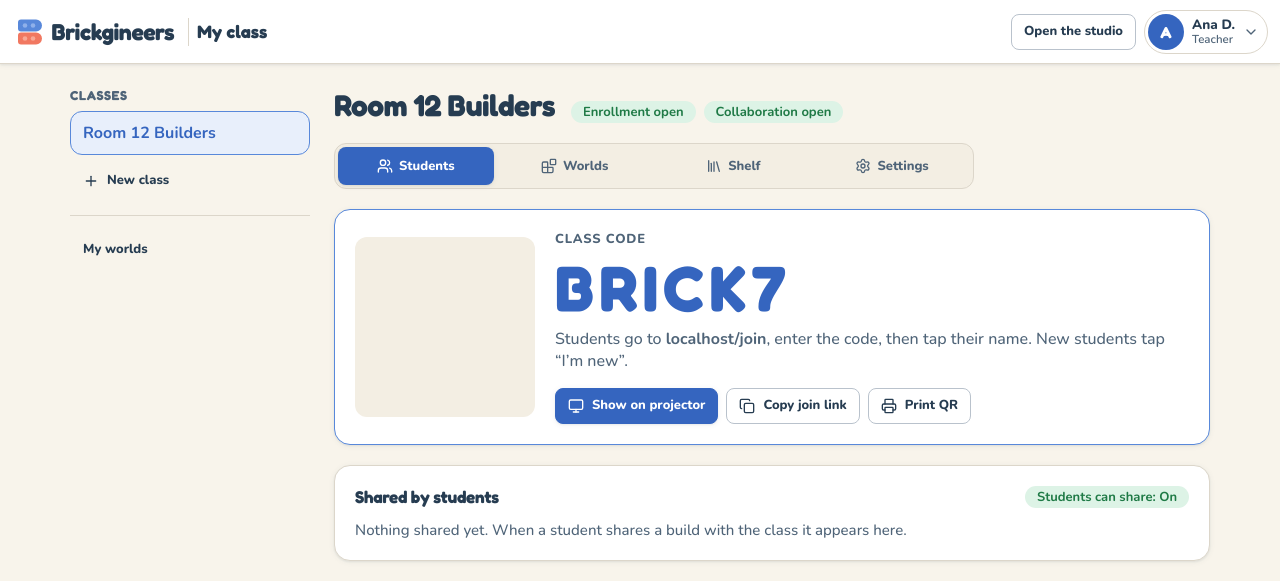
Test: peeks at a brick: how many scripts, its variables and who made it
This screenshot has width=1280, height=581.
Click the radio button labelled "Shelf" at (733, 166), box [656,147,811,185]
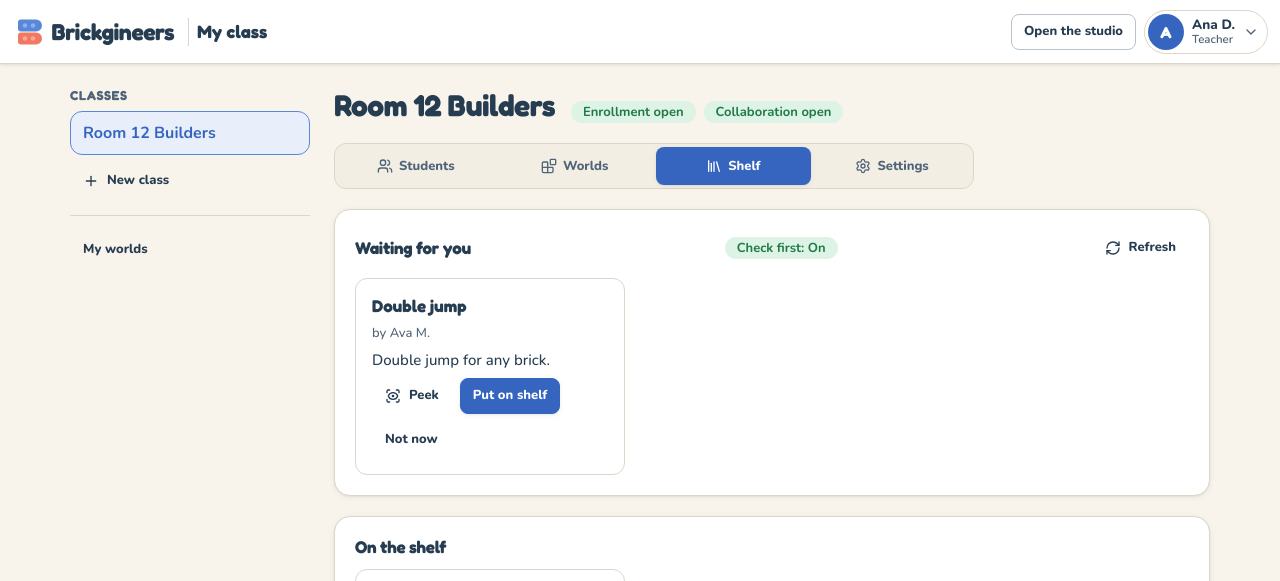
Click the button "Peek" below "Ava M." at (412, 396), box [372,378,452,414]
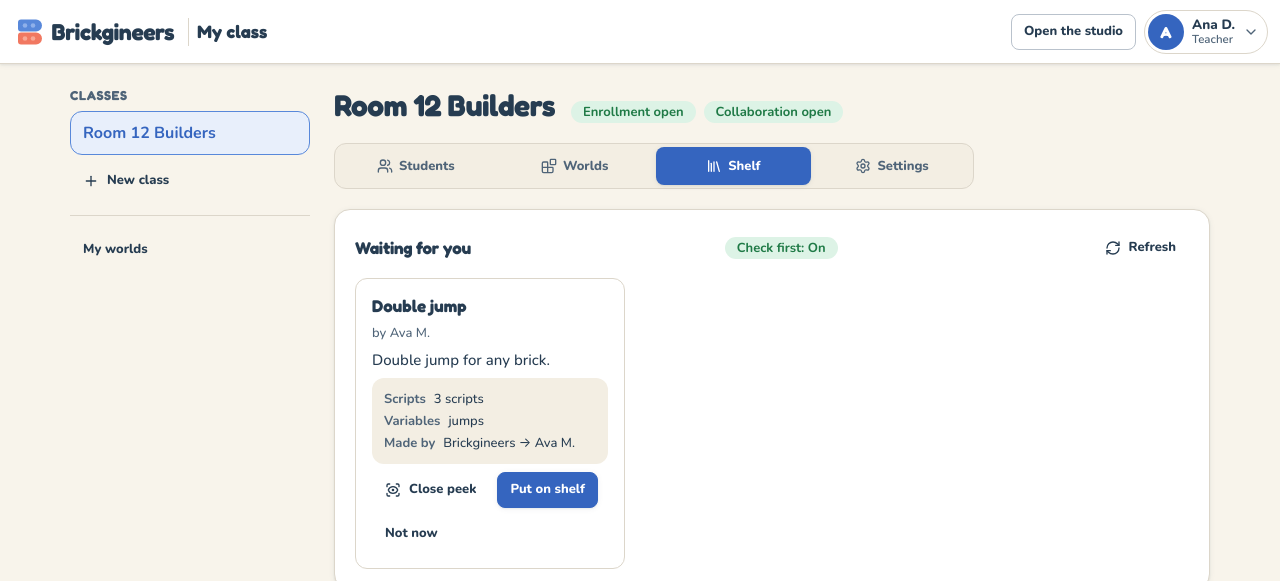
Expected: the text "3 scripts" is shown, [434,390,484,408]
Expected: the text "jumps" is shown, [448,412,484,430]
Expected: the text "Brickgineers → Ava M." is shown, [443,434,575,452]
